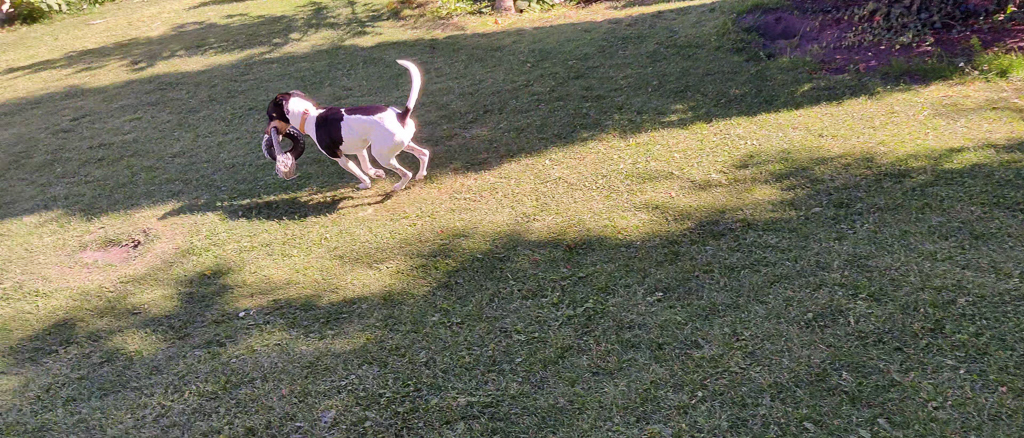Dog: (252, 50, 436, 198)
